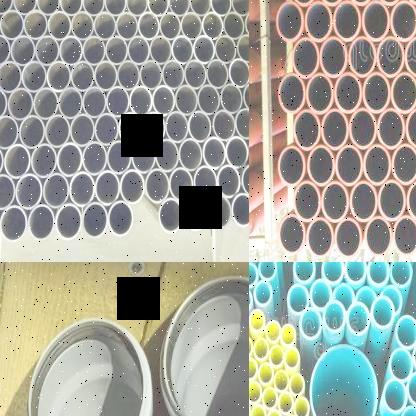pipe: (160, 276, 249, 416), (26, 318, 149, 416), (310, 344, 378, 416), (320, 182, 350, 224), (306, 72, 334, 115), (350, 180, 378, 223), (307, 144, 335, 186), (335, 144, 363, 186), (320, 108, 348, 150), (348, 108, 376, 150), (334, 72, 362, 114), (276, 2, 304, 44), (304, 0, 332, 42), (362, 0, 390, 42), (364, 216, 392, 258), (278, 146, 306, 187), (362, 73, 390, 114), (348, 37, 376, 78), (333, 1, 361, 42), (306, 218, 334, 259), (293, 181, 321, 222), (378, 180, 406, 221), (279, 214, 306, 256), (293, 110, 321, 150), (377, 108, 405, 148), (292, 38, 320, 78), (334, 218, 362, 258), (320, 37, 347, 78), (364, 144, 390, 186), (377, 37, 404, 77), (278, 73, 304, 114), (390, 0, 416, 40), (54, 204, 82, 241), (391, 144, 416, 185), (391, 72, 416, 113), (28, 206, 56, 242), (15, 174, 43, 210), (42, 173, 70, 209), (4, 144, 32, 180), (0, 206, 27, 243), (107, 201, 134, 238), (30, 144, 57, 179), (106, 140, 132, 176), (69, 172, 95, 208), (144, 168, 170, 204), (82, 202, 108, 238), (393, 216, 416, 256), (19, 115, 45, 150), (69, 113, 95, 148), (56, 143, 82, 178), (82, 141, 108, 176), (168, 167, 194, 202), (183, 196, 208, 232), (119, 170, 144, 206), (94, 170, 119, 206), (7, 88, 34, 121), (44, 114, 70, 148), (158, 199, 184, 233), (192, 166, 218, 200), (388, 348, 414, 382), (207, 195, 232, 230), (155, 138, 179, 174), (21, 61, 47, 94), (33, 88, 59, 121), (94, 113, 119, 147), (131, 140, 156, 174), (216, 165, 241, 199), (382, 380, 407, 414), (58, 87, 83, 120), (178, 138, 202, 172), (118, 112, 142, 146), (82, 86, 106, 119), (142, 112, 166, 145), (202, 137, 226, 170), (347, 302, 370, 336), (10, 36, 36, 66), (46, 61, 71, 92), (94, 60, 118, 92), (106, 86, 130, 118), (165, 112, 189, 144), (188, 111, 212, 143), (323, 300, 346, 333), (23, 10, 48, 40), (47, 11, 72, 41), (226, 136, 248, 170), (70, 61, 94, 92), (174, 85, 198, 116), (212, 110, 236, 141), (0, 9, 24, 40), (371, 297, 395, 328), (197, 84, 220, 116), (82, 36, 106, 66), (36, 36, 60, 66), (59, 36, 83, 66), (117, 60, 140, 91), (220, 83, 243, 114), (0, 61, 22, 93), (300, 308, 322, 340), (395, 315, 416, 348), (105, 36, 128, 66), (152, 86, 175, 116), (127, 36, 150, 66), (149, 36, 172, 66), (71, 12, 94, 42), (130, 86, 152, 117), (214, 35, 237, 64), (230, 193, 249, 228), (184, 60, 206, 90), (162, 60, 184, 90), (172, 36, 194, 66), (140, 60, 162, 90), (287, 284, 309, 314), (0, 116, 19, 150), (138, 12, 160, 41), (94, 12, 116, 41), (159, 12, 181, 41), (206, 60, 228, 89), (180, 12, 202, 41), (116, 12, 138, 41), (310, 279, 332, 308), (228, 58, 249, 88), (193, 36, 215, 64), (202, 12, 224, 40), (222, 12, 244, 40), (380, 286, 402, 314), (333, 284, 355, 312), (390, 262, 412, 288), (356, 286, 376, 314), (0, 174, 15, 211), (321, 262, 344, 285), (368, 262, 390, 286), (253, 280, 273, 306), (344, 262, 367, 284), (234, 108, 249, 140), (293, 262, 315, 283), (405, 108, 416, 149), (405, 37, 416, 78), (235, 34, 249, 63), (82, 0, 105, 17), (249, 309, 266, 332), (36, 0, 60, 16), (262, 386, 278, 410), (258, 362, 274, 386), (268, 344, 284, 368), (147, 0, 169, 17), (253, 338, 270, 360), (280, 324, 297, 346), (407, 180, 416, 221), (59, 0, 82, 16), (13, 0, 37, 15), (126, 0, 147, 17), (168, 0, 189, 17), (104, 0, 126, 16), (278, 392, 294, 414), (289, 374, 305, 396), (284, 347, 300, 369), (258, 262, 277, 280), (189, 0, 210, 16), (210, 0, 231, 16), (274, 370, 289, 392), (0, 34, 10, 66), (294, 396, 310, 416), (266, 320, 280, 342), (240, 164, 249, 198), (249, 381, 262, 404), (407, 373, 416, 406), (231, 0, 249, 16), (249, 262, 258, 288), (0, 88, 7, 120), (242, 82, 249, 113), (0, 0, 13, 15), (250, 404, 266, 416), (249, 357, 257, 380), (244, 11, 249, 39), (267, 409, 282, 416), (249, 287, 253, 312), (249, 336, 253, 358)
